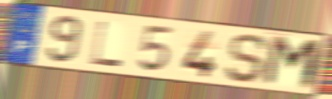4: (180, 29, 217, 79)
5: (138, 23, 175, 73)
9: (46, 15, 84, 65)
L: (89, 19, 124, 69)
M: (260, 33, 325, 93)
S: (223, 32, 271, 85)
